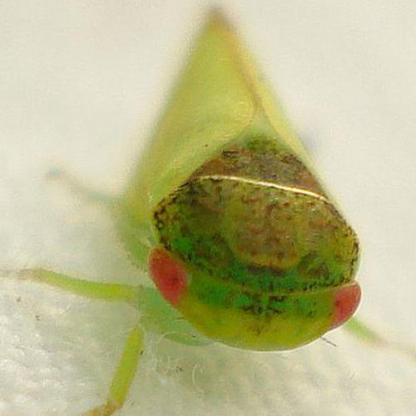green-leafhopper: (122, 27, 372, 353)
